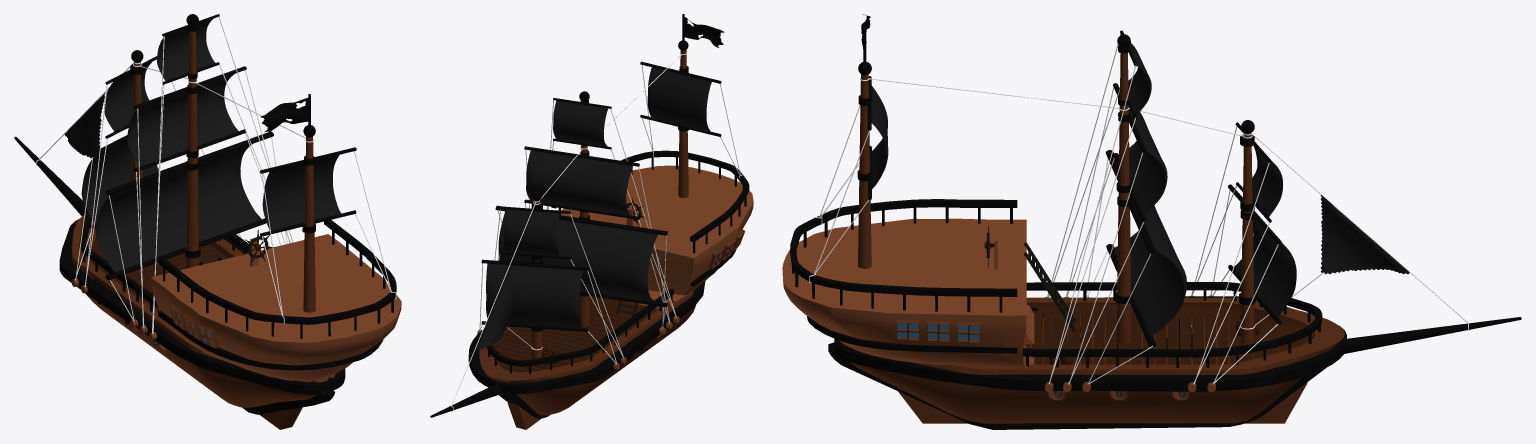
3 views of the same model, side by side, from view 1: azimuth 30°, elevation 25°; view 2: azimuth 150°, elevation 25°; view 3: azimuth 270°, elevation 25° (orthographic). The views are drawn at different scales.
Visible parts, largest first — view 1: Polygon_Reduction_1; view 2: Polygon_Reduction_1; view 3: Polygon_Reduction_1.
Part boxes in pixels (x1=…): Polygon_Reduction_1: x1=14, y1=14, x2=401, y2=429; Polygon_Reduction_1: x1=430, y1=14, x2=753, y2=429; Polygon_Reduction_1: x1=782, y1=14, x2=1521, y2=429.
Size of the model in its own units: 1533 by 2829 by 4768.
